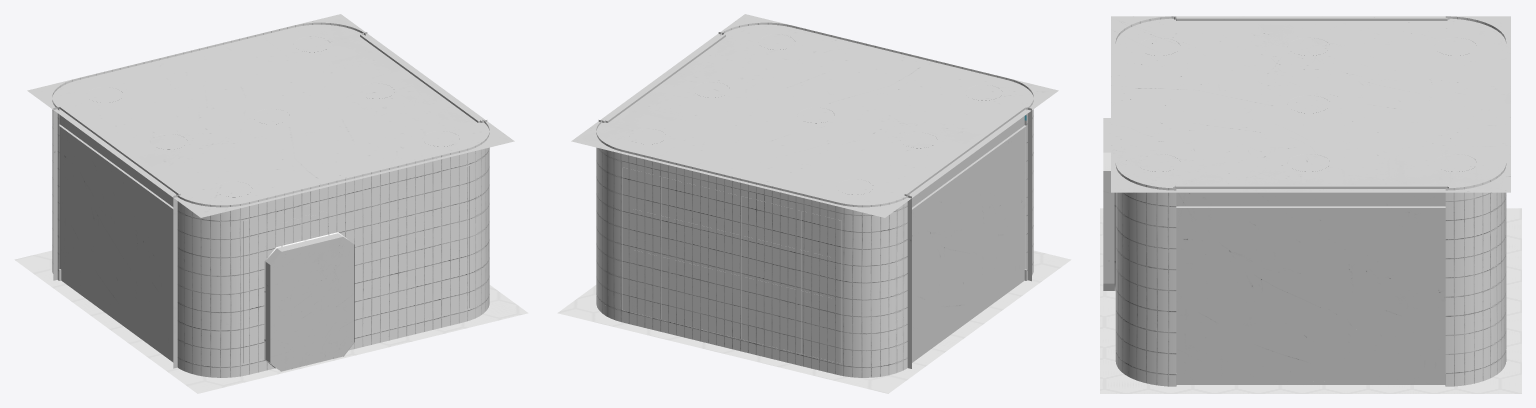
The model's file is Meeting_room.fbx.
The picture shows the model from 3 angles, left to right: view 1: azimuth 30°, elevation 25°; view 2: azimuth 150°, elevation 25°; view 3: azimuth 270°, elevation 25°; orthographic projection. The views are drawn at different scales.
Visible parts, largest first — view 1: Ceiling.Shape, Wall02.Shape, Wall03.Shape, Floor.Shape, Door02.Shape, Door01.Shape, Wall01.Shape, Wall04.Shape; view 2: Wall01.Shape, Ceiling.Shape, Wall03.Shape, Floor.Shape, Wall02.Shape, Wall04.Shape; view 3: Ceiling.Shape, Wall04.Shape, Wall02.Shape, Wall01.Shape, Floor.Shape, Wall03.Shape.
Boxes of the visible parts, left/top/right/bottom form: Ceiling.Shape: left=27, top=14, right=514, bottom=217; Wall02.Shape: left=176, top=120, right=489, bottom=377; Wall03.Shape: left=53, top=107, right=180, bottom=368; Floor.Shape: left=14, top=250, right=528, bottom=393; Door02.Shape: left=268, top=243, right=311, bottom=371; Door01.Shape: left=311, top=235, right=353, bottom=363; Wall01.Shape: left=52, top=22, right=365, bottom=280; Wall04.Shape: left=360, top=32, right=487, bottom=122; Wall01.Shape: left=596, top=120, right=909, bottom=377; Ceiling.Shape: left=571, top=14, right=1058, bottom=217; Wall03.Shape: left=904, top=107, right=1031, bottom=368; Floor.Shape: left=557, top=250, right=1071, bottom=393; Wall02.Shape: left=720, top=22, right=1033, bottom=280; Wall04.Shape: left=598, top=32, right=725, bottom=122; Ceiling.Shape: left=1111, top=16, right=1510, bottom=207; Wall04.Shape: left=1173, top=185, right=1448, bottom=384; Wall02.Shape: left=1103, top=16, right=1176, bottom=386; Wall01.Shape: left=1445, top=16, right=1506, bottom=386; Floor.Shape: left=1100, top=208, right=1521, bottom=393; Wall03.Shape: left=1173, top=17, right=1449, bottom=20.
Bounding box in the file's own units: 659 × 330 × 633.
28 materials, 26 textured.
